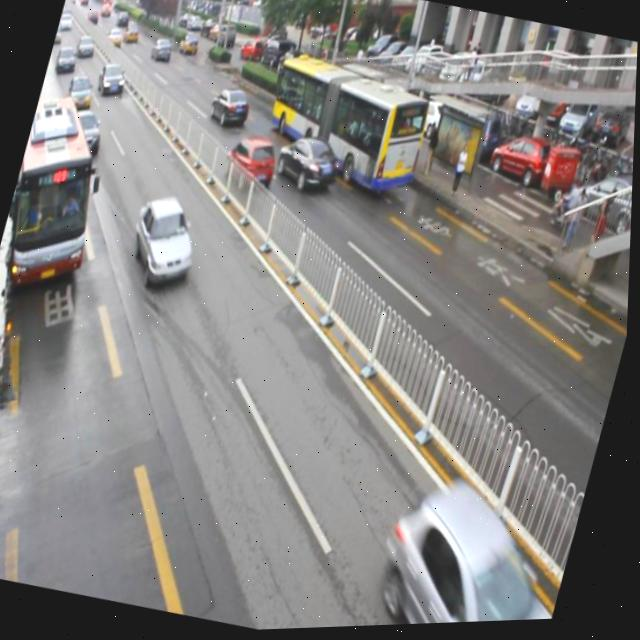car: (369, 471, 586, 629), (123, 189, 207, 294), (272, 130, 342, 198), (220, 130, 282, 195), (206, 85, 255, 136), (66, 107, 109, 154), (95, 62, 130, 102), (65, 73, 97, 113)
van: (256, 47, 437, 200), (0, 92, 124, 299)
